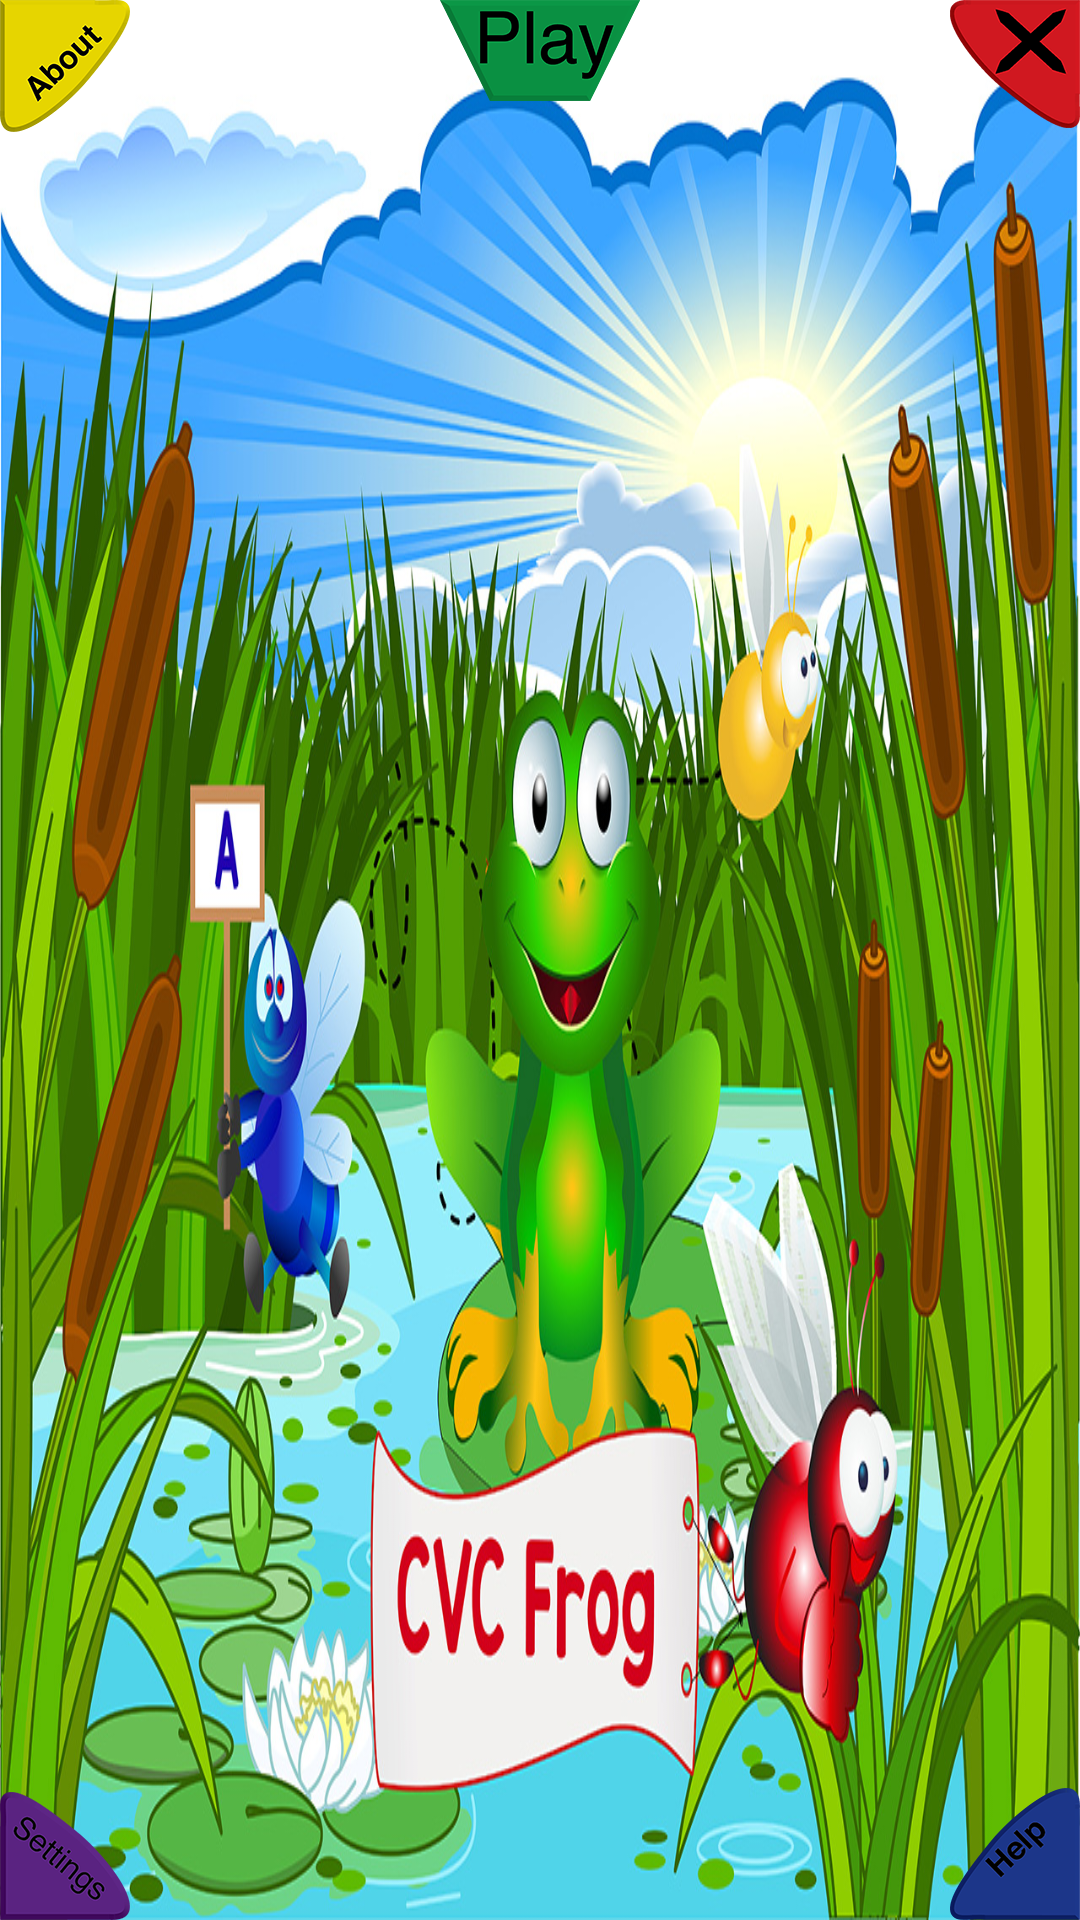

Icon click points for this 1080px×1920px phone screenshot, format (x=x, y=y):
exitbutton: (x=1015, y=64)
